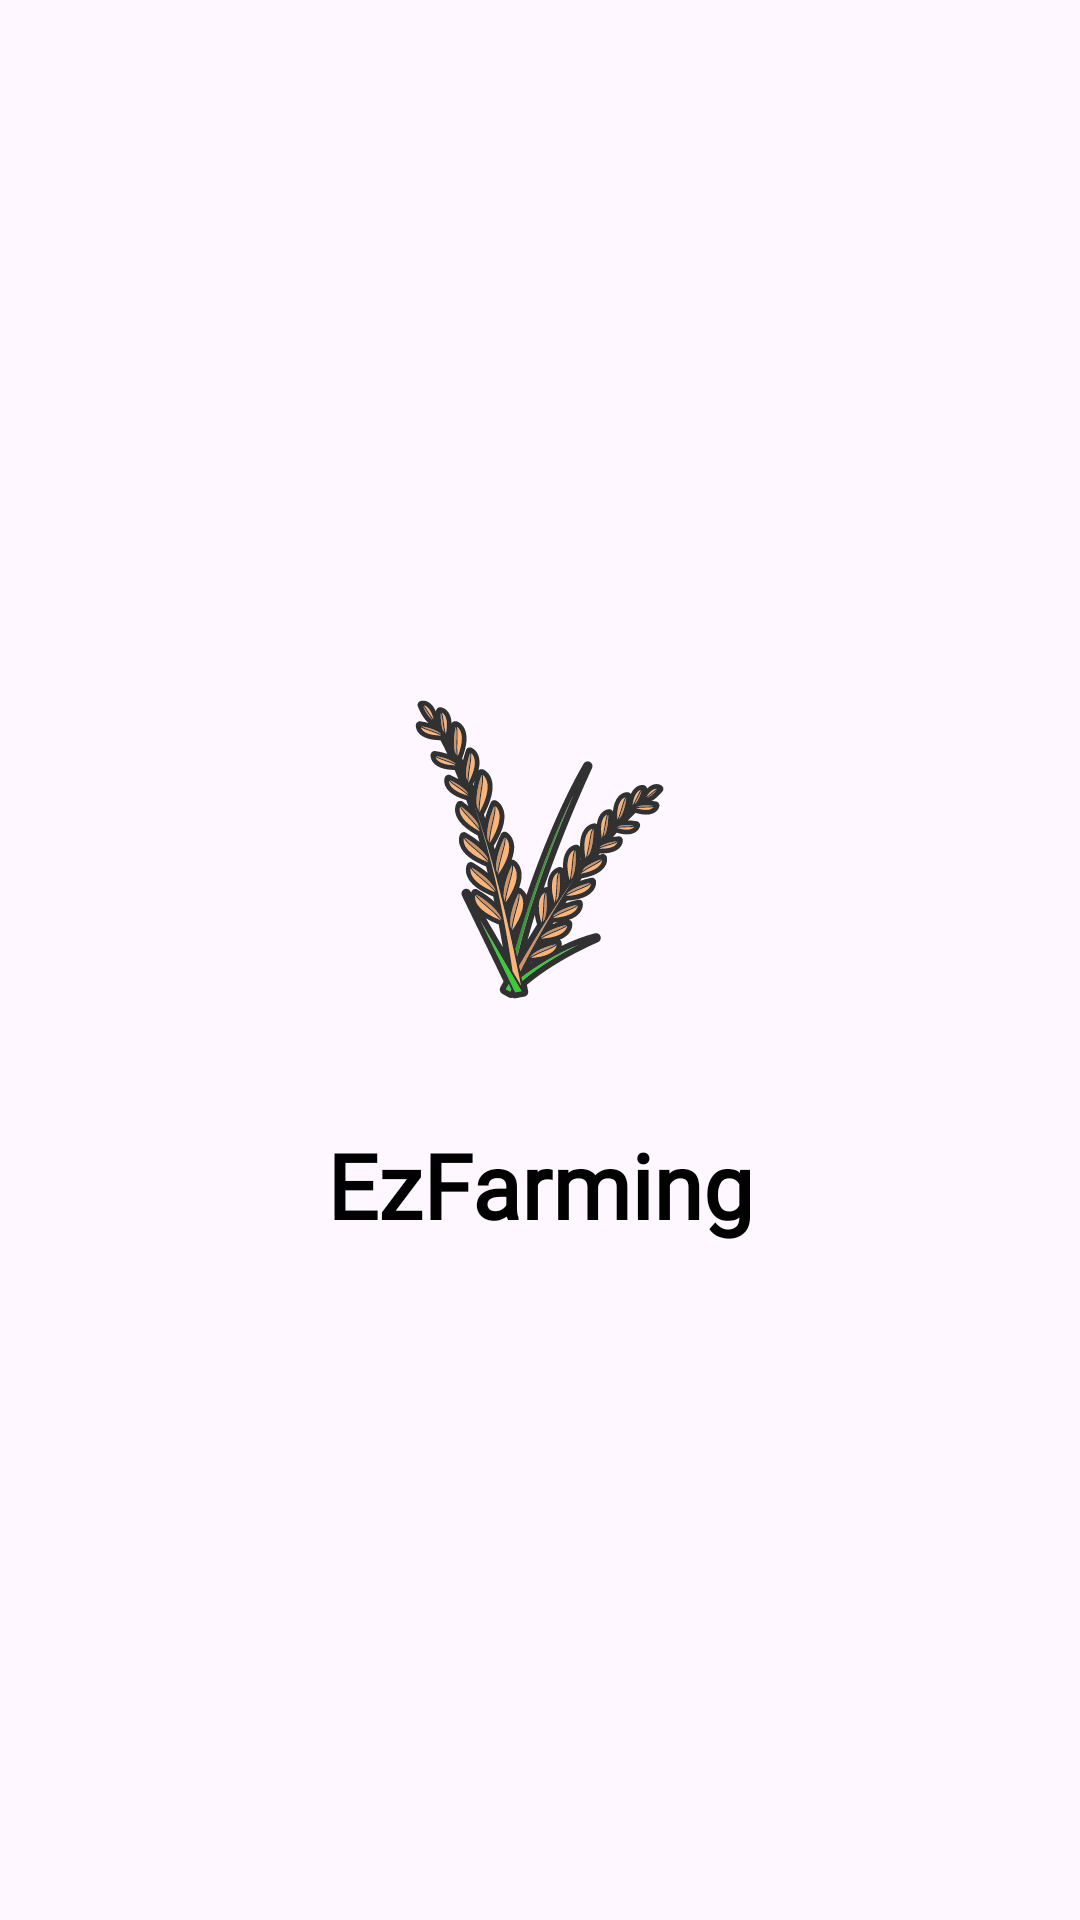

Locate icon controls on the screen. Image size 1080x1920, boxes as bbox=[x1, y1, x2, y2].
paddy: bbox=[415, 700, 664, 999]
